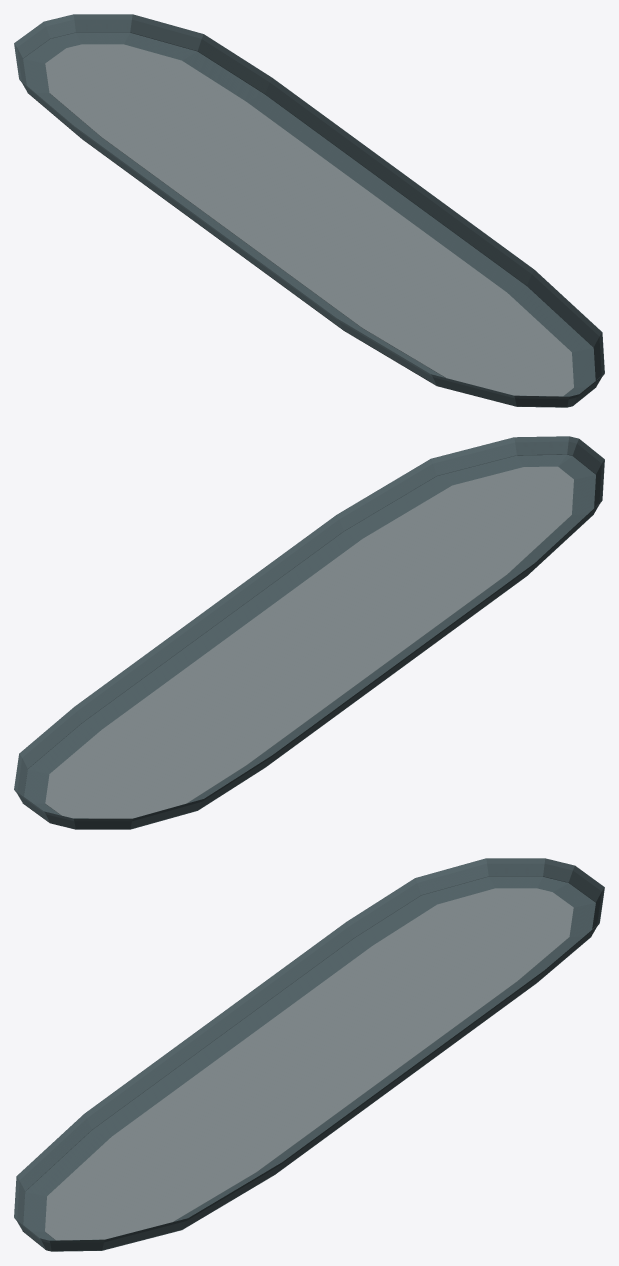
File: AST-HUL-001.glb
3 views of the same model, one above another, from view 1: azimuth 30°, elevation 25°; view 2: azimuth 150°, elevation 25°; view 3: azimuth 330°, elevation 25° (orthographic).
Visible parts, largest first — view 1: HUL_KeelPan, HUL_LowerBand_00, HUL_LowerBand_03, HUL_LowerBand_02, HUL_LowerBand_04, HUL_LowerBand_01; view 2: HUL_KeelPan, HUL_LowerBand_00, HUL_LowerBand_03, HUL_LowerBand_02, HUL_LowerBand_04, HUL_LowerBand_01; view 3: HUL_KeelPan, HUL_LowerBand_00, HUL_LowerBand_03, HUL_LowerBand_02, HUL_LowerBand_04, HUL_LowerBand_01.
Boxes of the visible parts, x1=… form: HUL_KeelPan: x1=45, y1=44, x2=573, y2=396; HUL_LowerBand_00: x1=23, y1=32, x2=595, y2=396; HUL_LowerBand_03: x1=17, y1=19, x2=601, y2=403; HUL_LowerBand_02: x1=20, y1=26, x2=598, y2=407; HUL_LowerBand_04: x1=14, y1=14, x2=604, y2=399; HUL_LowerBand_01: x1=23, y1=32, x2=596, y2=407; HUL_KeelPan: x1=45, y1=466, x2=573, y2=818; HUL_LowerBand_00: x1=24, y1=454, x2=595, y2=815; HUL_LowerBand_03: x1=17, y1=441, x2=601, y2=825; HUL_LowerBand_02: x1=20, y1=448, x2=598, y2=829; HUL_LowerBand_04: x1=14, y1=436, x2=604, y2=821; HUL_LowerBand_01: x1=22, y1=454, x2=595, y2=829; HUL_KeelPan: x1=45, y1=888, x2=573, y2=1240; HUL_LowerBand_00: x1=23, y1=876, x2=595, y2=1240; HUL_LowerBand_03: x1=17, y1=863, x2=601, y2=1247; HUL_LowerBand_02: x1=20, y1=870, x2=598, y2=1251; HUL_LowerBand_04: x1=14, y1=858, x2=604, y2=1243; HUL_LowerBand_01: x1=22, y1=876, x2=595, y2=1251.
Bounding box in the file's own units: 240 × 20 × 1082.
2 materials, 2 textured.
